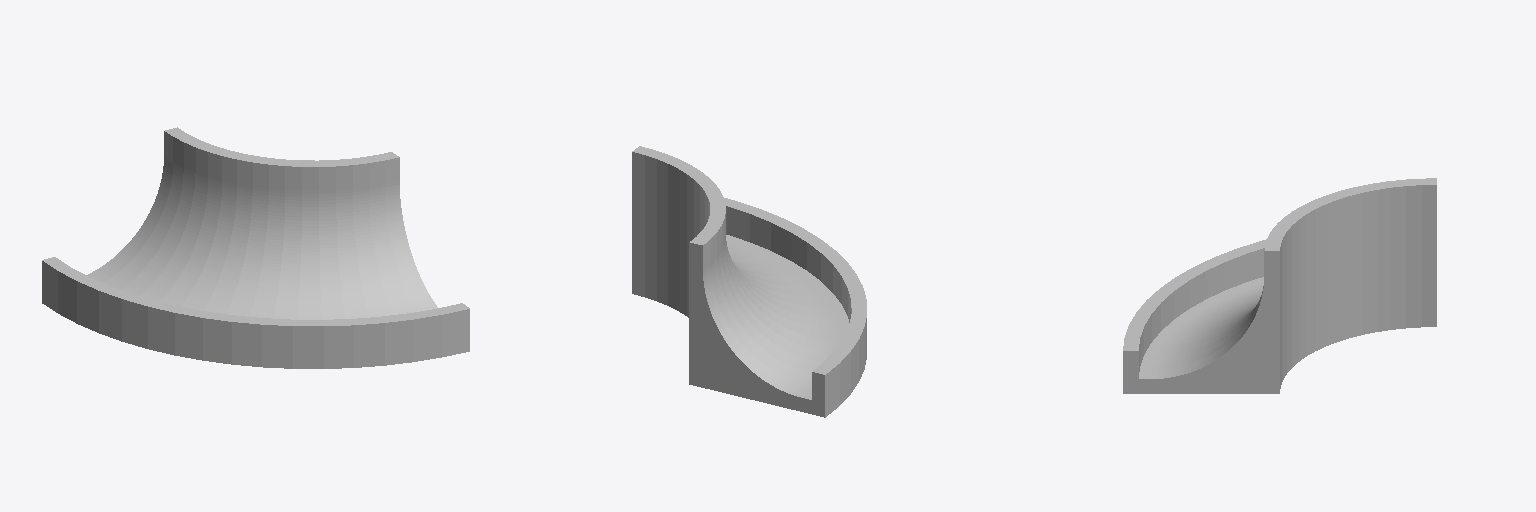
The model's file is BankedCornerLarge2.obj.
3 renders of one model, left to right at view 1: azimuth 30°, elevation 25°; view 2: azimuth 150°, elevation 25°; view 3: azimuth 270°, elevation 25°, orthographic.
Visible parts, largest first — view 1: BankedCornerLarge2; view 2: BankedCornerLarge2; view 3: BankedCornerLarge2.
Part boxes in pixels (bbox=[...]): BankedCornerLarge2: bbox=[42, 127, 469, 368]; BankedCornerLarge2: bbox=[632, 146, 866, 417]; BankedCornerLarge2: bbox=[1123, 178, 1436, 393].
Size of the model in its own units: 4 by 2 by 4.